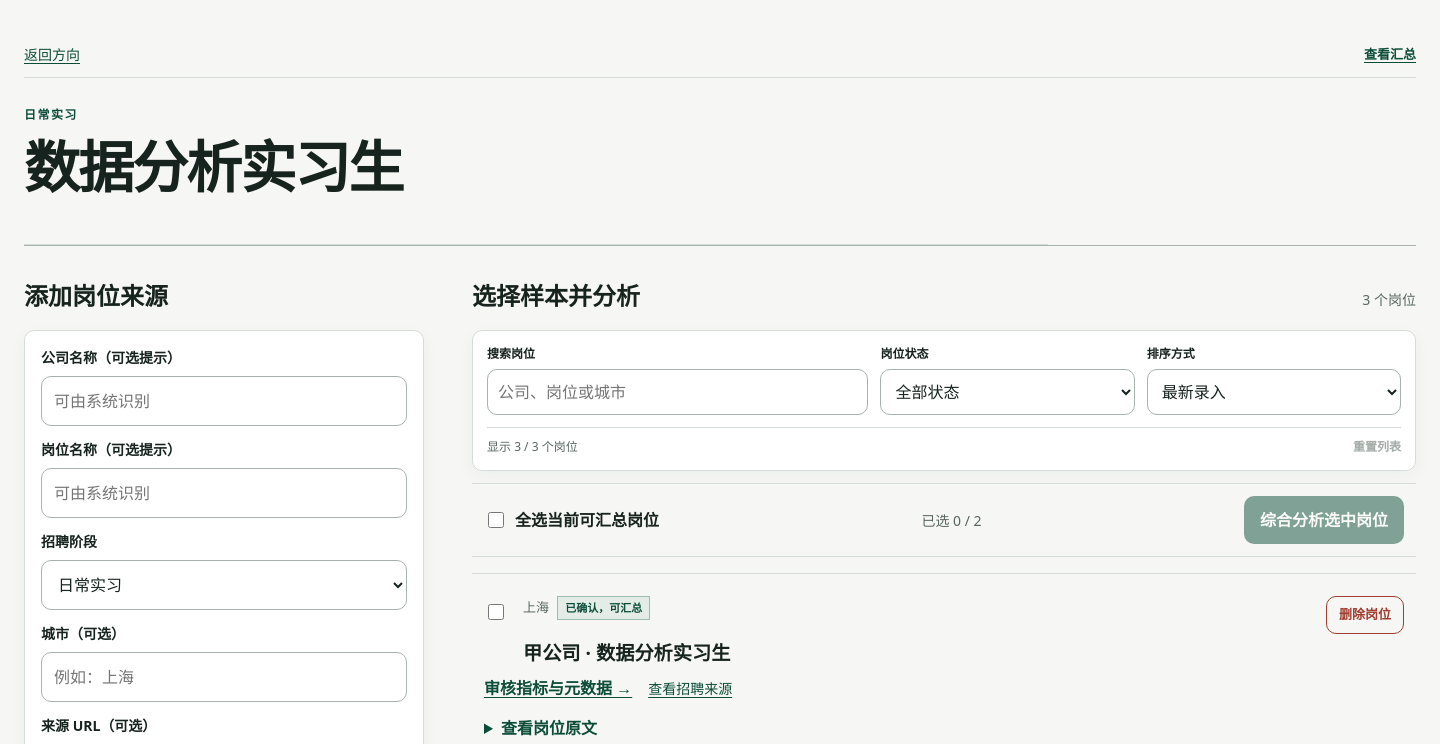
Scenario: JobPostingDashboard › filters visible jobs while preserving selections across searches
The image size is (1440, 744).
Check: the heading "甲公司 · 数据分析实习生" is shown, box left=523, top=639, right=730, bottom=666
Type "甲公司" into the search field labelled "搜索岗位" at (678, 392), box left=487, top=370, right=868, bottom=416
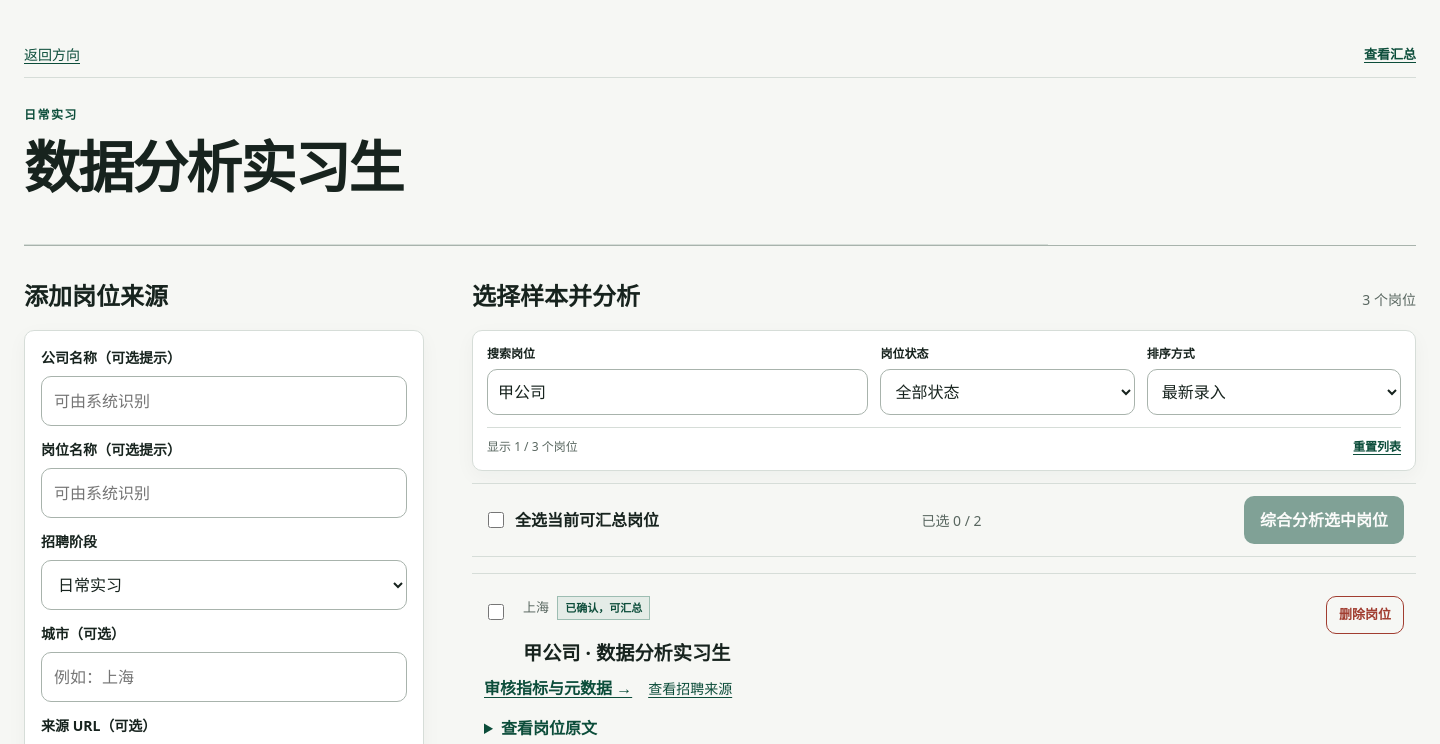
Check: the text "显示 1 / 3 个岗位" is shown, box left=487, top=438, right=578, bottom=456
Click the checkbox labelled "全选当前可汇总岗位" at (496, 520), box left=488, top=512, right=504, bottom=528
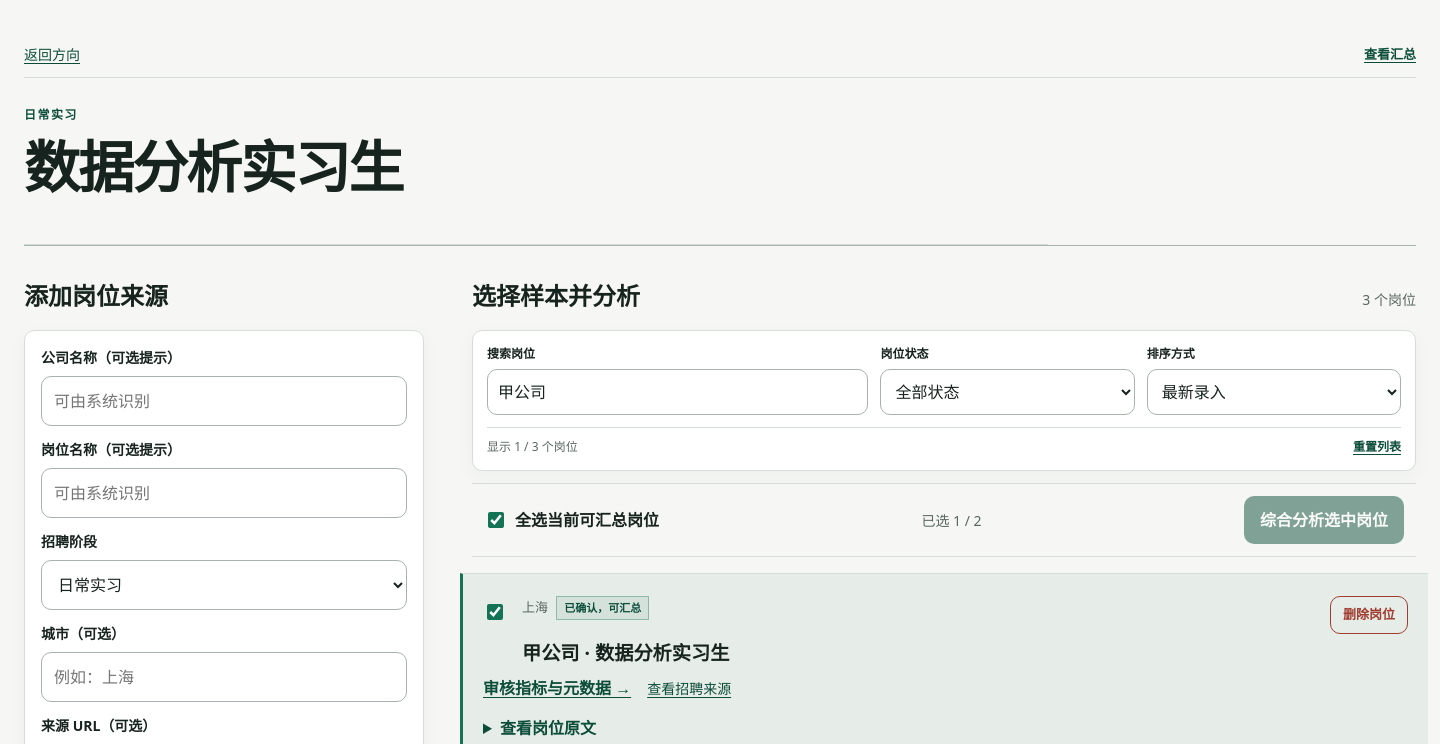
Check: the checkbox named "选择 甲公司 · 数据分析实习生" is checked, box left=487, top=604, right=503, bottom=620
Replace the text in the search field labelled "搜索岗位" with "丙公司" at (678, 392), box left=487, top=370, right=868, bottom=416
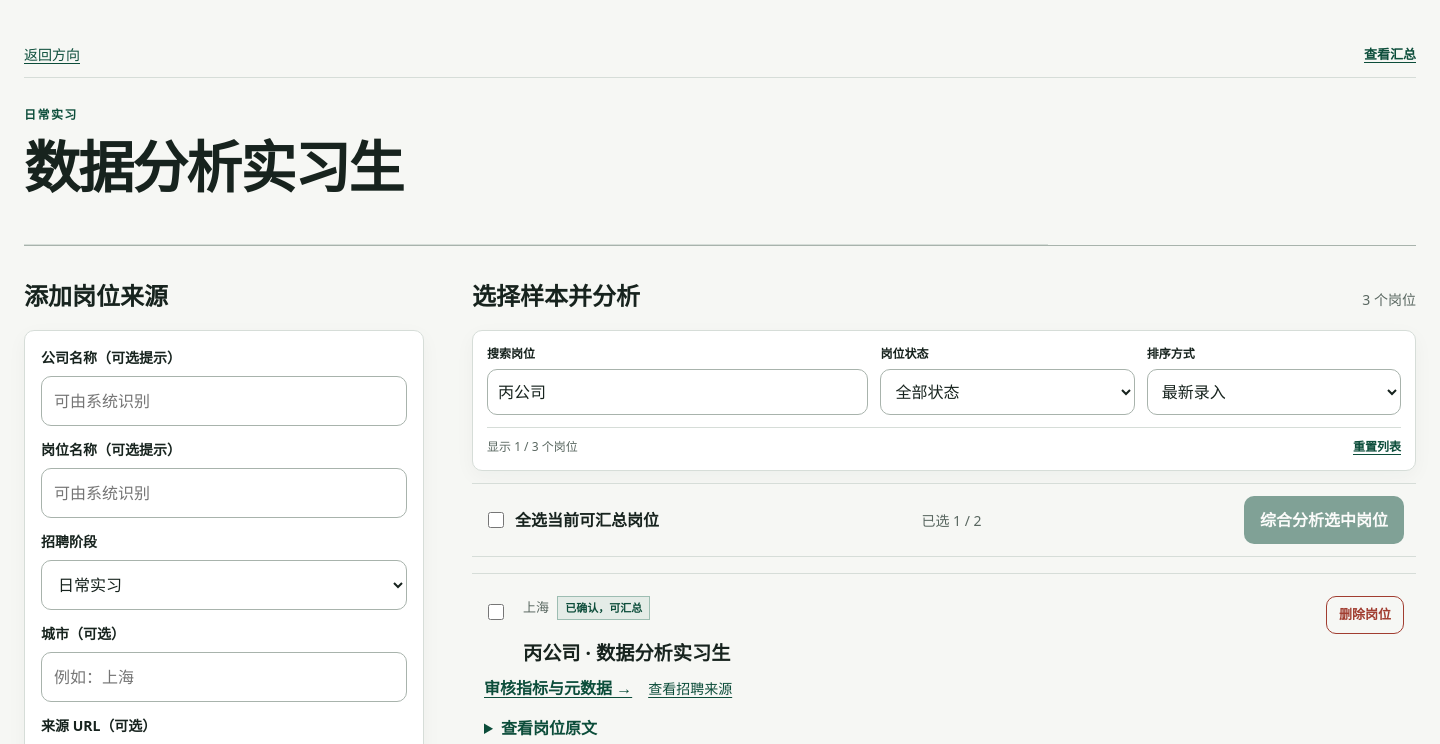
Check: the heading "甲公司 · 数据分析实习生" is gone
Click the checkbox labelled "全选当前可汇总岗位" at (496, 520), box left=488, top=512, right=504, bottom=528
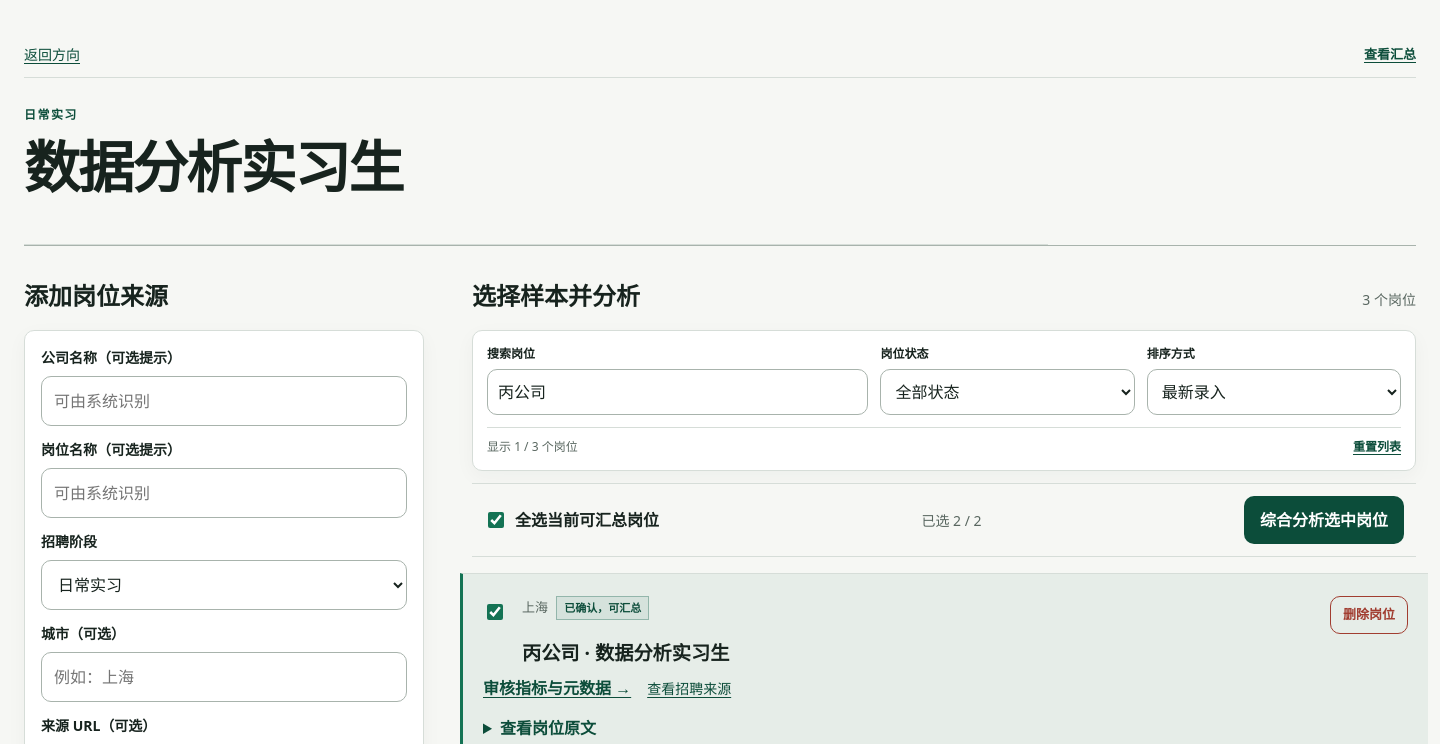
Check: the text "已选 2 / 2" is shown, box left=921, top=510, right=982, bottom=531
Replace the text in the search field labelled "搜索岗位" with "不存在" at (678, 392), box left=487, top=370, right=868, bottom=416
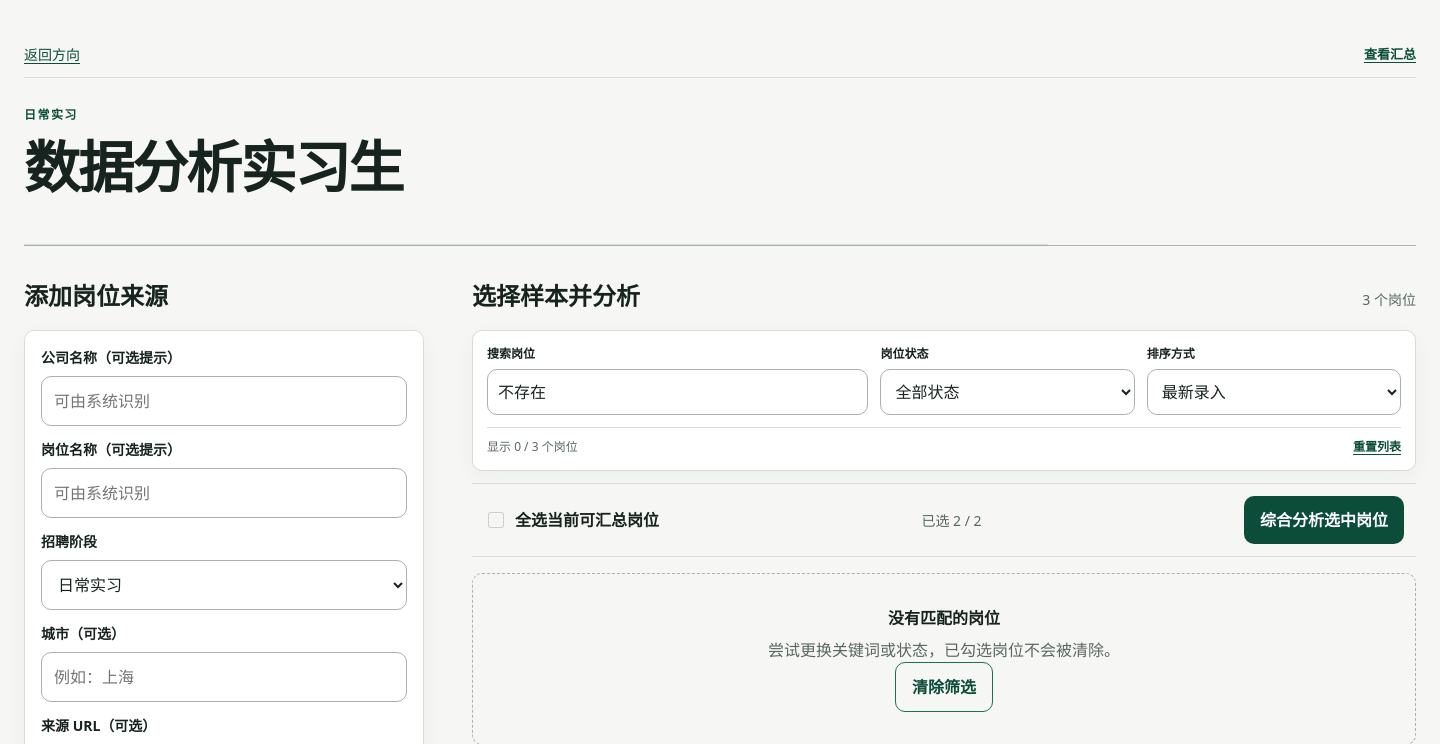
Check: the heading "没有匹配的岗位" is shown, box left=888, top=608, right=1000, bottom=630
Click the button "清除筛选" at (944, 688), box left=895, top=662, right=993, bottom=712
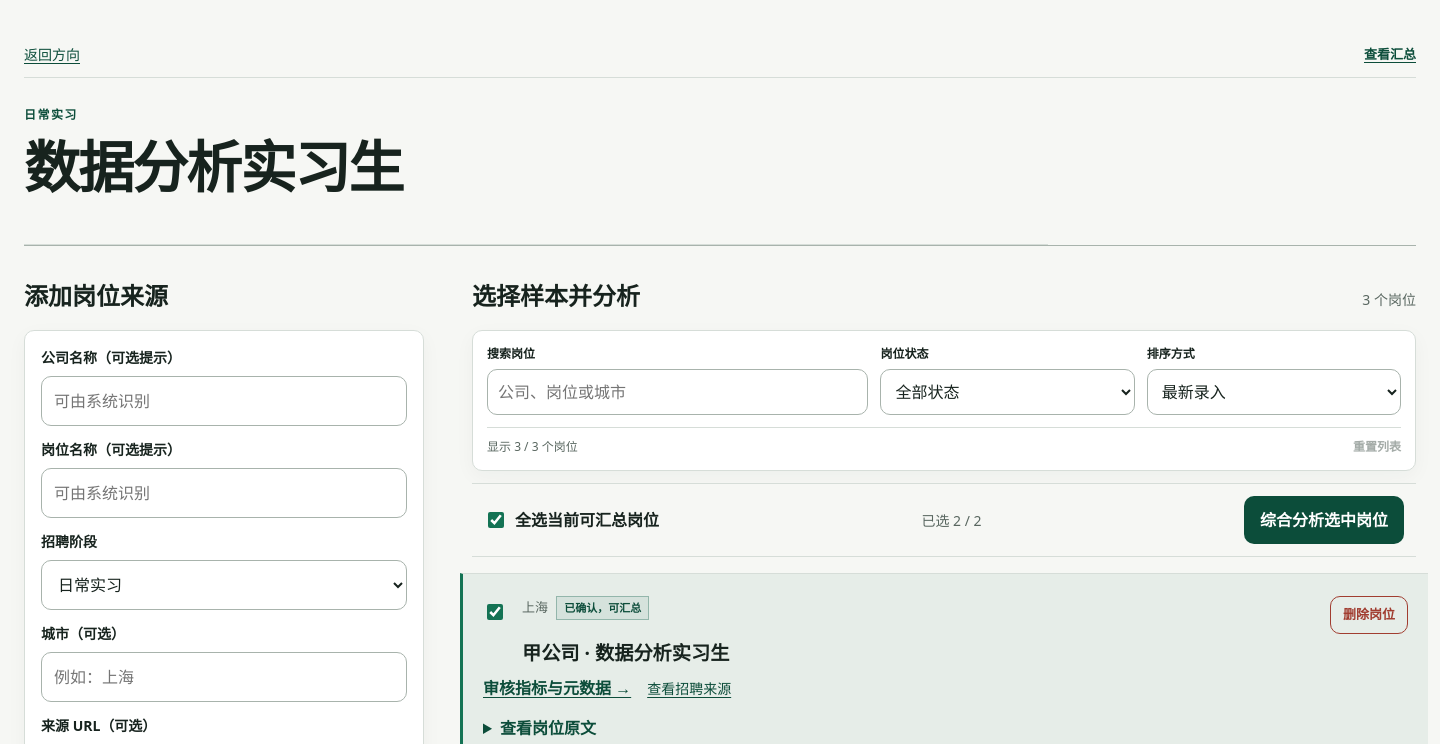
Check: the heading "甲公司 · 数据分析实习生" is shown, box left=522, top=639, right=729, bottom=666
